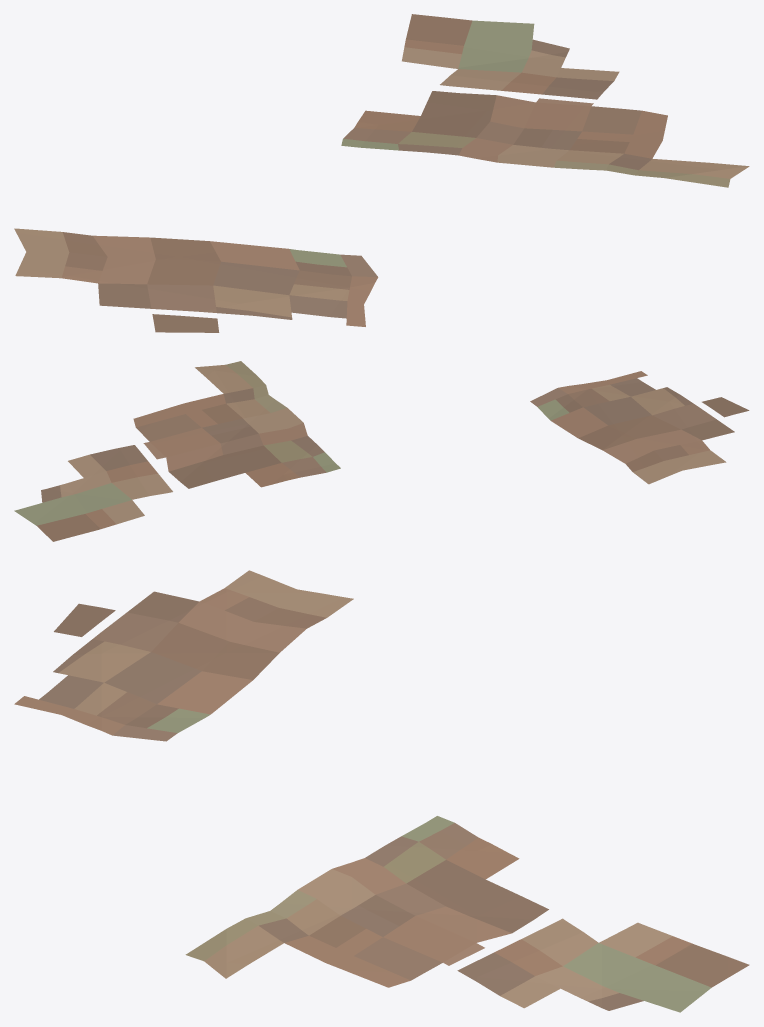
Rendered from farm_12_0_soil.glb.
3 views of the same model, one above another, from view 1: azimuth 30°, elevation 25°; view 2: azimuth 150°, elevation 25°; view 3: azimuth 270°, elevation 25° (orthographic). The views are drawn at different scales.
Visible parts, largest first — view 1: geometry_0; view 2: geometry_0; view 3: geometry_0.
Boxes of the visible parts, bbox=[...] form: geometry_0: bbox=[14, 14, 749, 332]; geometry_0: bbox=[14, 361, 749, 541]; geometry_0: bbox=[14, 570, 749, 1012].
Bounding box in the file's own units: 545 × 60.18 × 470.
